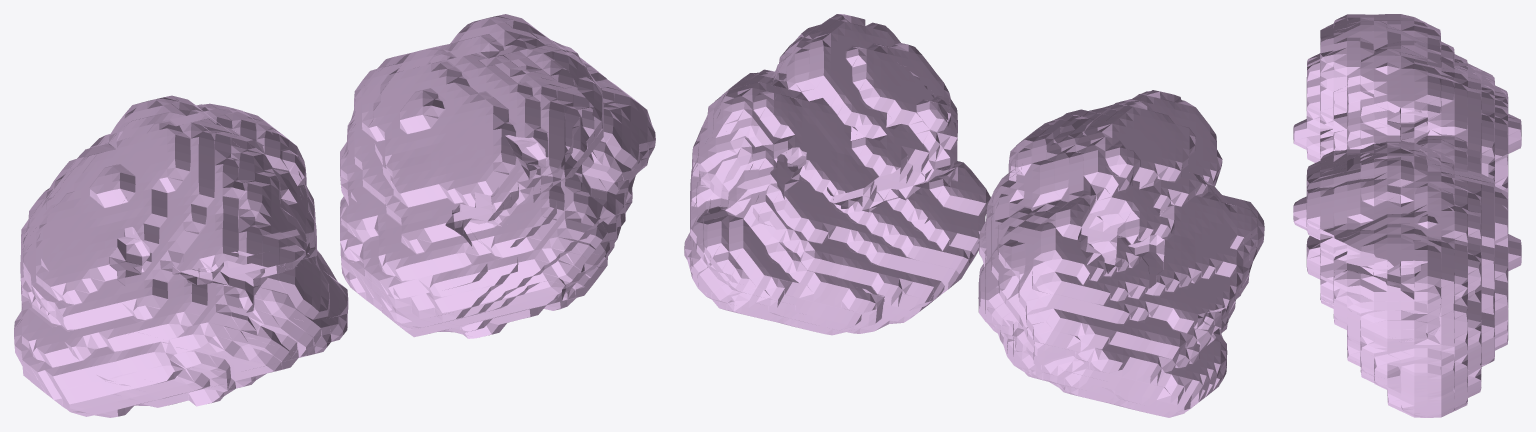
Rendered from VFB_00102201.glb.
3 views of the same model, side by side, from view 1: azimuth 30°, elevation 25°; view 2: azimuth 150°, elevation 25°; view 3: azimuth 270°, elevation 25° (orthographic). The views are drawn at different scales.
Visible parts, largest first — view 1: VFB_00102201; view 2: VFB_00102201; view 3: VFB_00102201.
Boxes of the visible parts, bbox=[...] form: VFB_00102201: bbox=[14, 14, 655, 417]; VFB_00102201: bbox=[684, 14, 1264, 417]; VFB_00102201: bbox=[1293, 14, 1521, 417].
Bounding box in the file's own units: 0.1599 × 0.077 × 0.0667.
